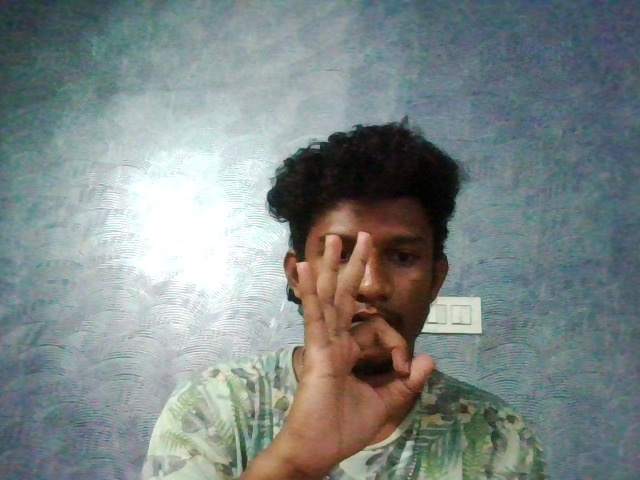good: (209, 218, 446, 480)
